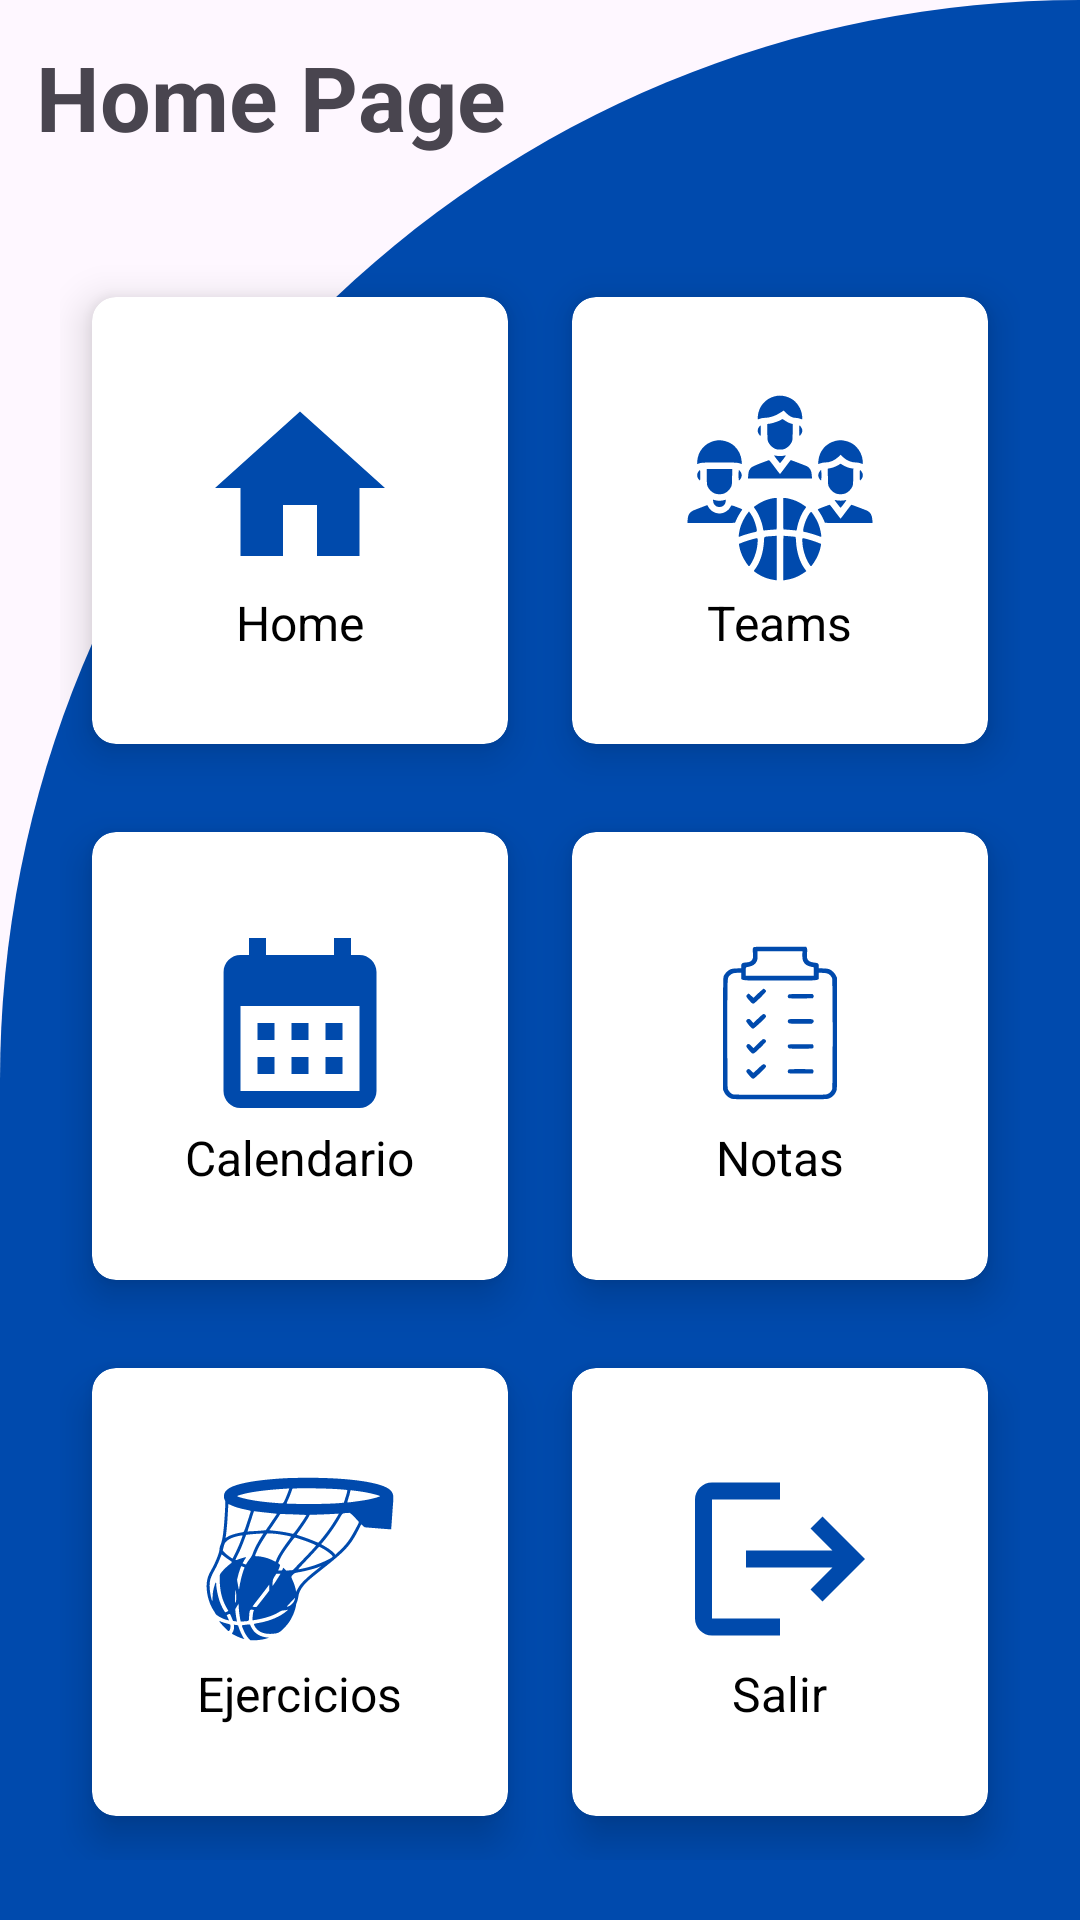

Icon bounding boxes for this 1080 × 1920 phone screenshot, format (x1,y1,x2,y2):
basket: (206,1477,394,1641)
planning: (723,946,837,1100)
